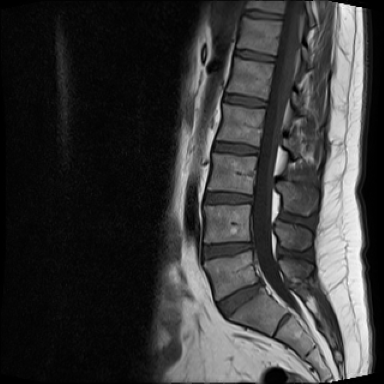Lumbar Disc Bulge (LDB): (210, 274, 270, 324), (200, 236, 261, 265)
Normal IVD: (200, 186, 258, 208), (219, 89, 271, 111), (211, 137, 263, 159), (230, 46, 278, 66), (240, 8, 285, 24)
Spinal Stenosis (SS): (255, 274, 270, 292)
